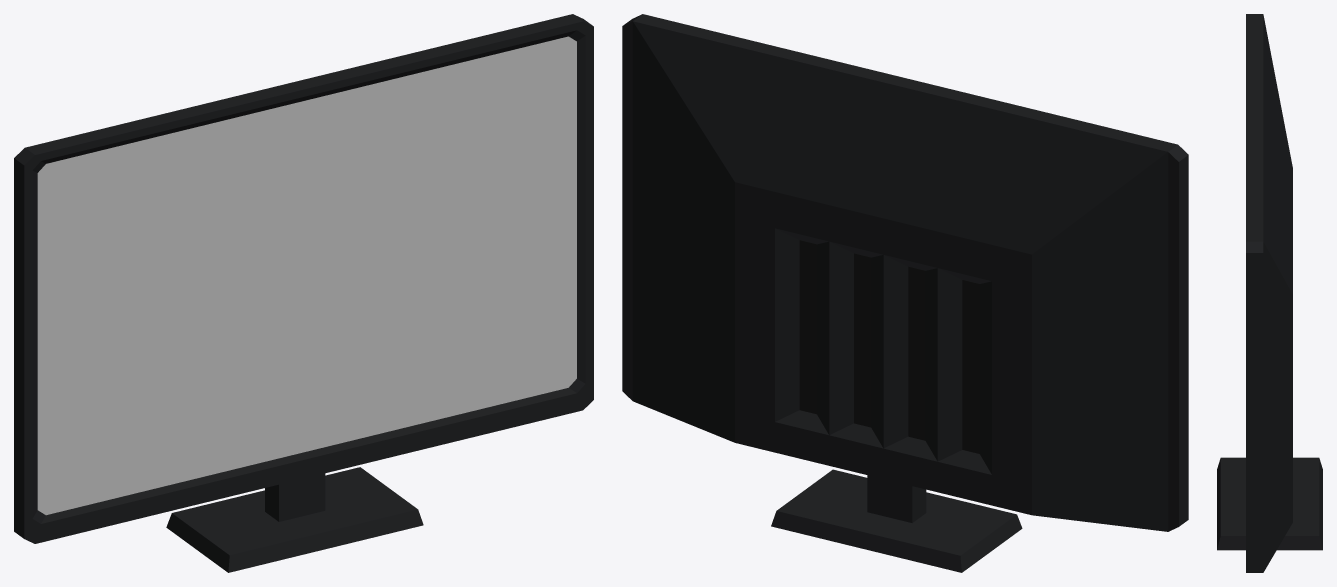
Rendered from SM_Prop_Television_Flat_01.fbx.
The picture shows the model from 3 angles, left to right: view 1: azimuth 30°, elevation 25°; view 2: azimuth 150°, elevation 25°; view 3: azimuth 270°, elevation 25°; orthographic projection. The views are drawn at different scales.
Parts seen in each view (by area): view 1: SM_Prop_Television_Flat_01; view 2: SM_Prop_Television_Flat_01; view 3: SM_Prop_Television_Flat_01.
Part boxes in pixels (x1=…): SM_Prop_Television_Flat_01: x1=14, y1=14, x2=593, y2=572; SM_Prop_Television_Flat_01: x1=622, y1=14, x2=1188, y2=572; SM_Prop_Television_Flat_01: x1=1217, y1=14, x2=1322, y2=572.
Bounding box in the file's own units: 135 × 102 × 25.56.
